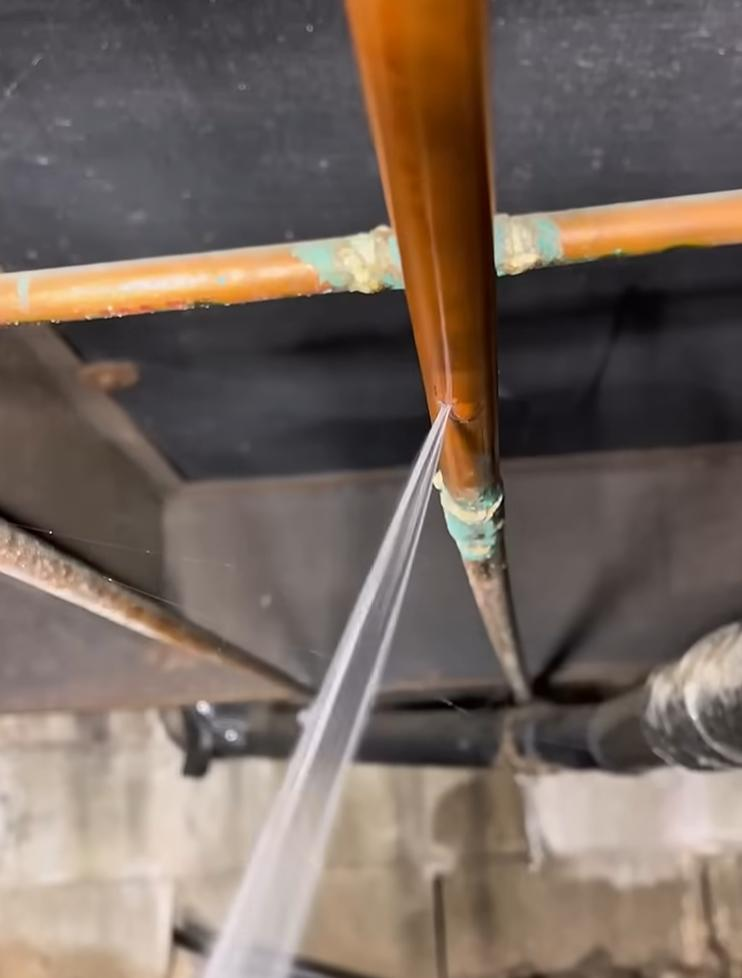pipe burst: (199, 390, 465, 978)
